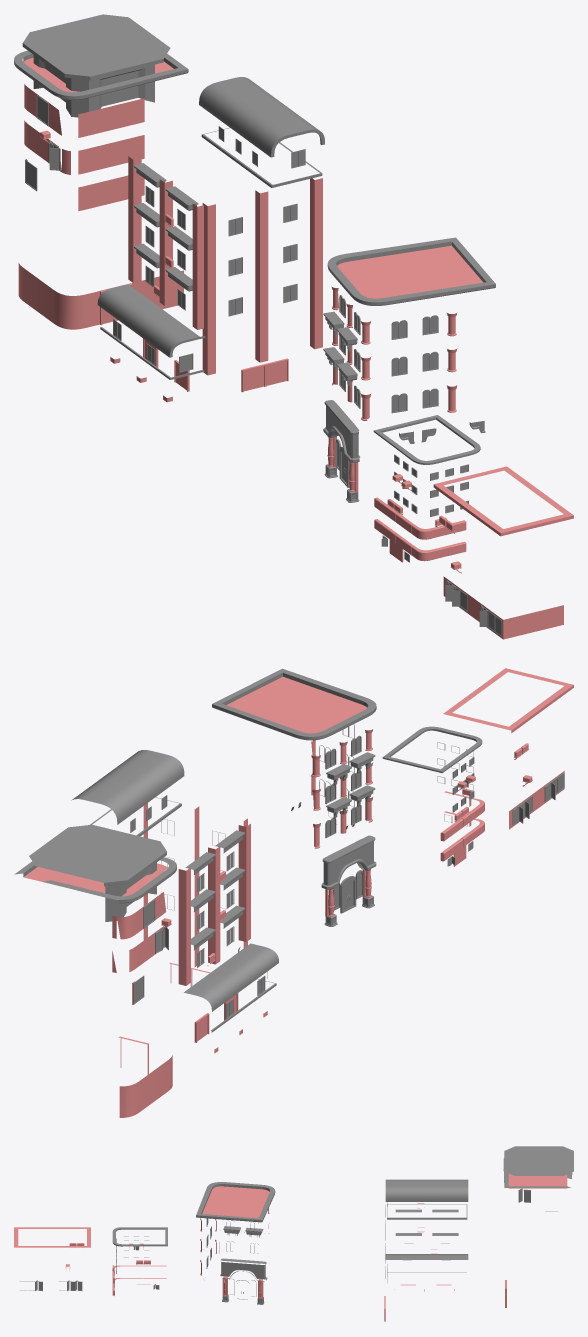
File: S_Envi_Umeda_Building_015.gltf
3 renders of one model, top to bottom at view 1: azimuth 30°, elevation 25°; view 2: azimuth 150°, elevation 25°; view 3: azimuth 270°, elevation 25°, orthographic. The views are drawn at different scales.
Parts seen in each view (by area): view 1: S_Envi_Umeda_Building_015; view 2: S_Envi_Umeda_Building_015; view 3: S_Envi_Umeda_Building_015.
Boxes of the visible parts, left/top/right/bottom form: S_Envi_Umeda_Building_015: left=14, top=14, right=573, bottom=639; S_Envi_Umeda_Building_015: left=14, top=668, right=573, bottom=1117; S_Envi_Umeda_Building_015: left=14, top=1146, right=573, bottom=1321.
Bounding box in the file's own units: 34.38 × 44.78 × 157.
